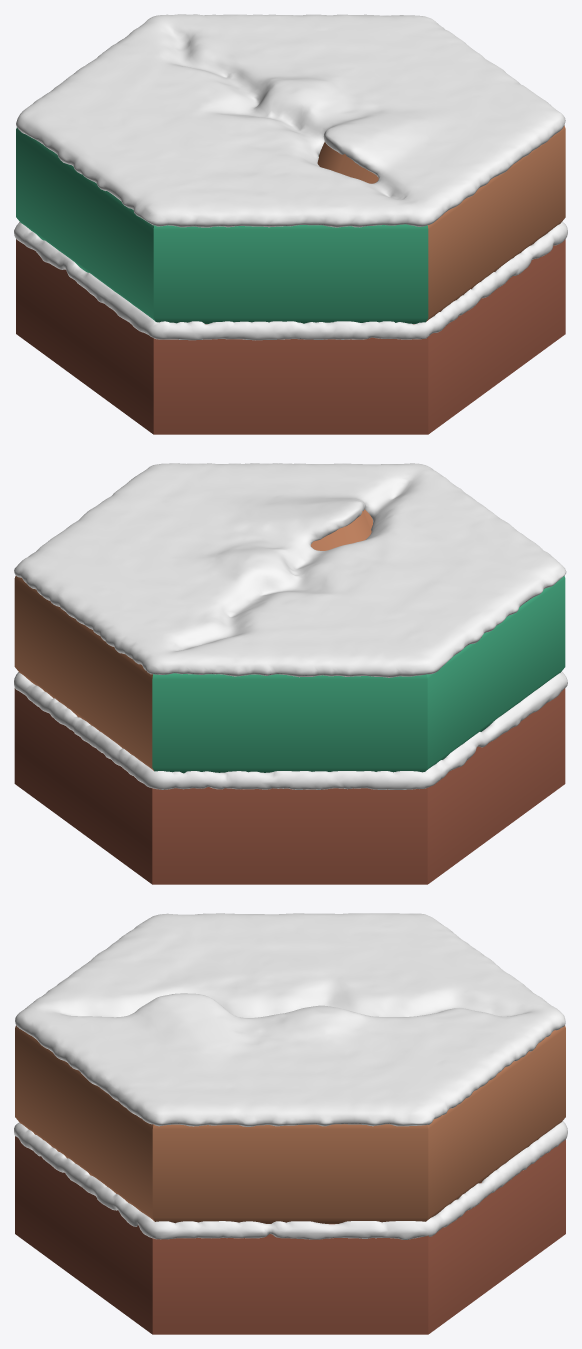
Rendered from snow_hex_forest_transitionB.fbx.
3 views of the same model, one above another, from view 1: azimuth 30°, elevation 25°; view 2: azimuth 150°, elevation 25°; view 3: azimuth 270°, elevation 25° (orthographic).
Visible parts, largest first — view 1: hex_forest_transitionA, SnowBall.001; view 2: hex_forest_transitionA, SnowBall.001; view 3: hex_forest_transitionA, SnowBall.001.
Boxes of the visible parts, x1,y1,x2,y2 form: hex_forest_transitionA: [16, 125, 565, 434]; SnowBall.001: [14, 14, 567, 340]; hex_forest_transitionA: [14, 509, 565, 884]; SnowBall.001: [14, 463, 567, 789]; hex_forest_transitionA: [15, 1025, 565, 1334]; SnowBall.001: [14, 913, 567, 1239].
Bounding box in the file's own units: 204 × 110 × 232.
